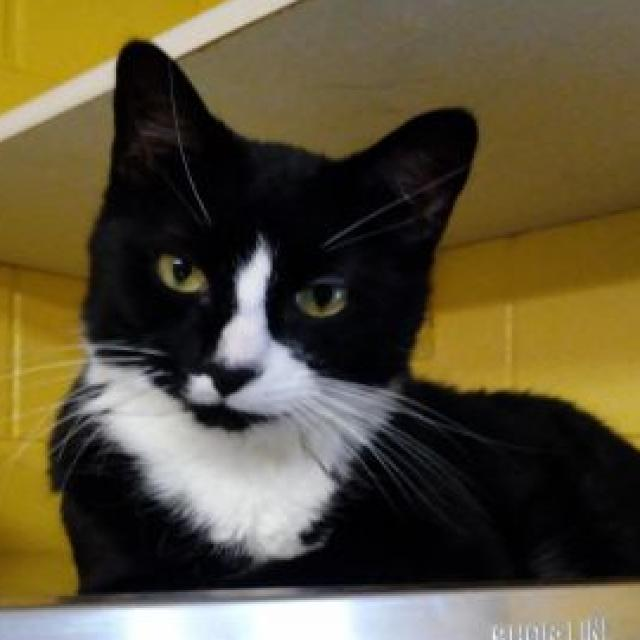Tuxedo: (42, 34, 640, 598)
